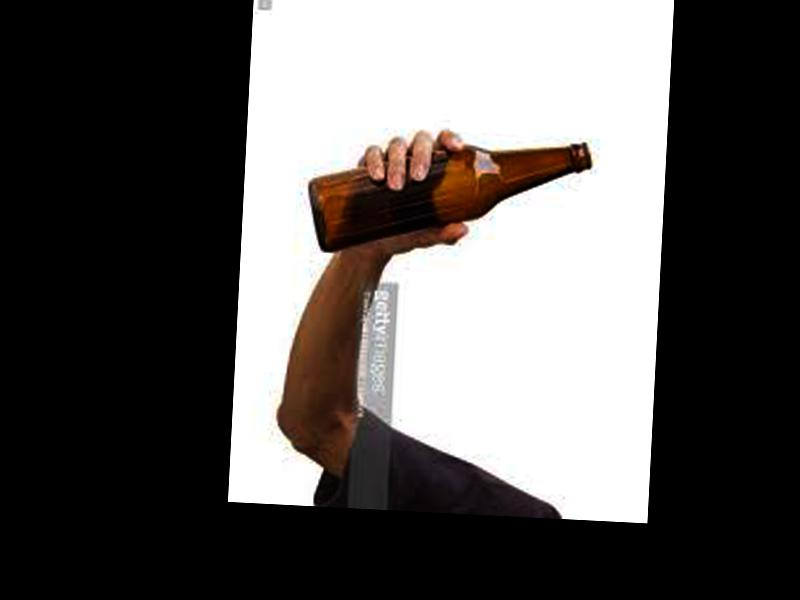Beer: (307, 129, 591, 268)
